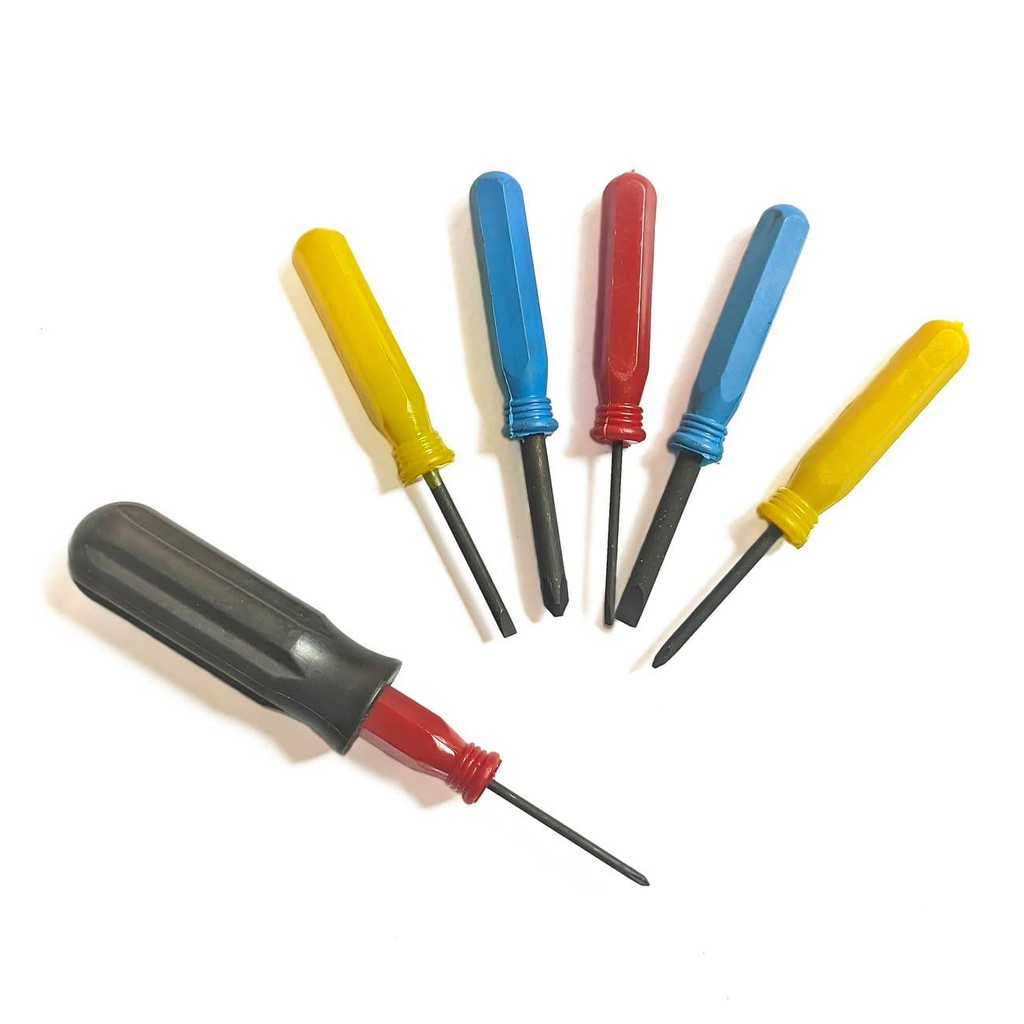screwdriver: (64, 497, 654, 887), (647, 316, 973, 668), (290, 227, 515, 640), (609, 201, 817, 624), (467, 168, 575, 622), (589, 172, 662, 628)
